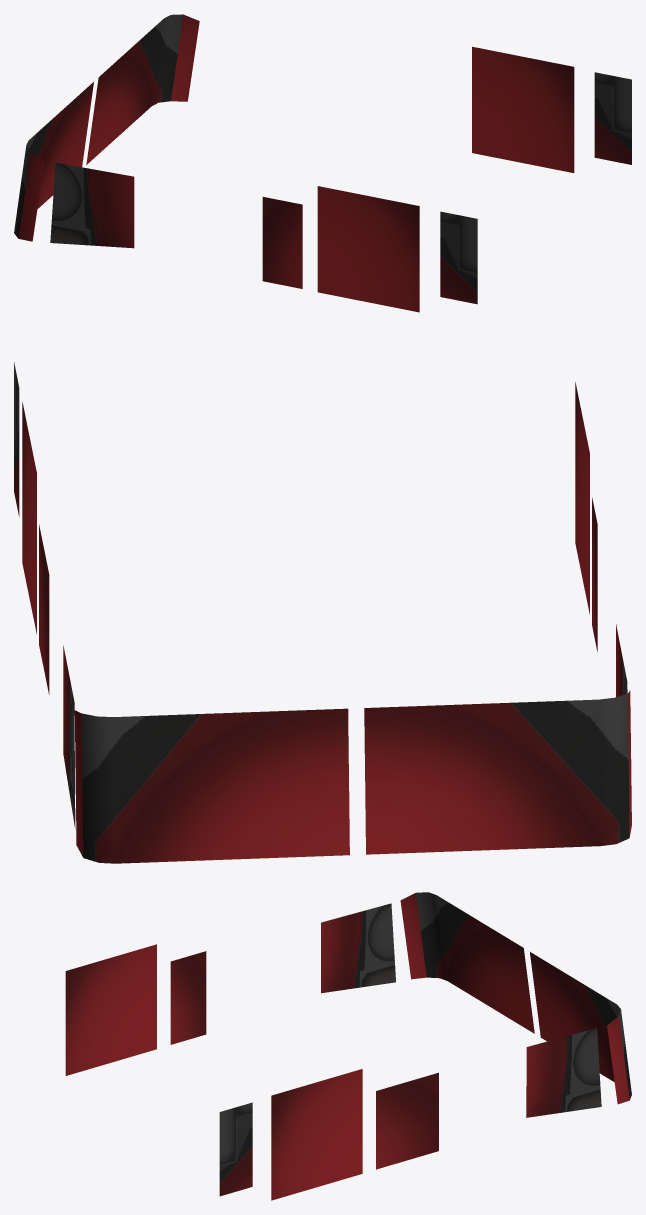
Rendered from Tire_tuck1_glass.fbx.
3 views of the same model, one above another, from view 1: azimuth 30°, elevation 25°; view 2: azimuth 150°, elevation 25°; view 3: azimuth 270°, elevation 25° (orthographic). The views are drawn at different scales.
Visible parts, largest first — view 1: Tire_tuck1_glass; view 2: Tire_tuck1_glass; view 3: Tire_tuck1_glass.
Boxes of the visible parts, bbox=[...] form: Tire_tuck1_glass: bbox=[14, 14, 631, 312]; Tire_tuck1_glass: bbox=[14, 362, 631, 863]; Tire_tuck1_glass: bbox=[65, 892, 631, 1200].
Bounding box in the file's own units: 437 × 466 × 92.92.
